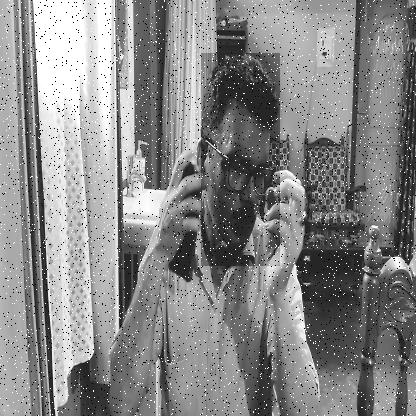Normal: (201, 53, 280, 266)
